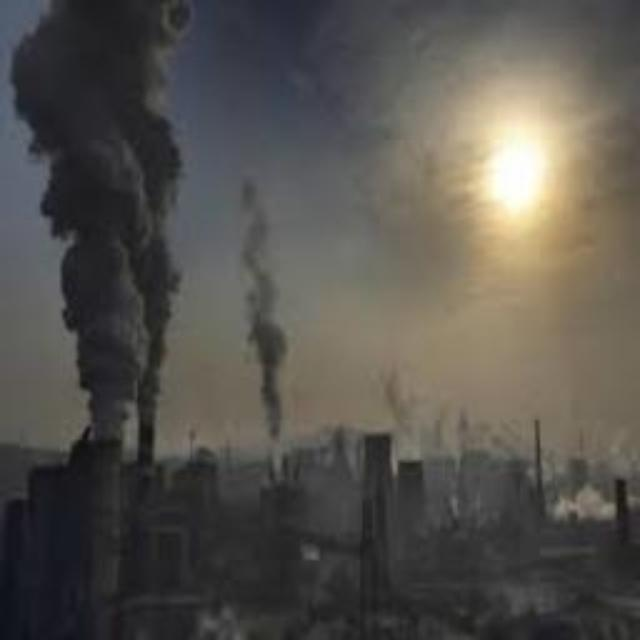smoke: (12, 2, 192, 432), (238, 180, 295, 452), (550, 488, 610, 525)
